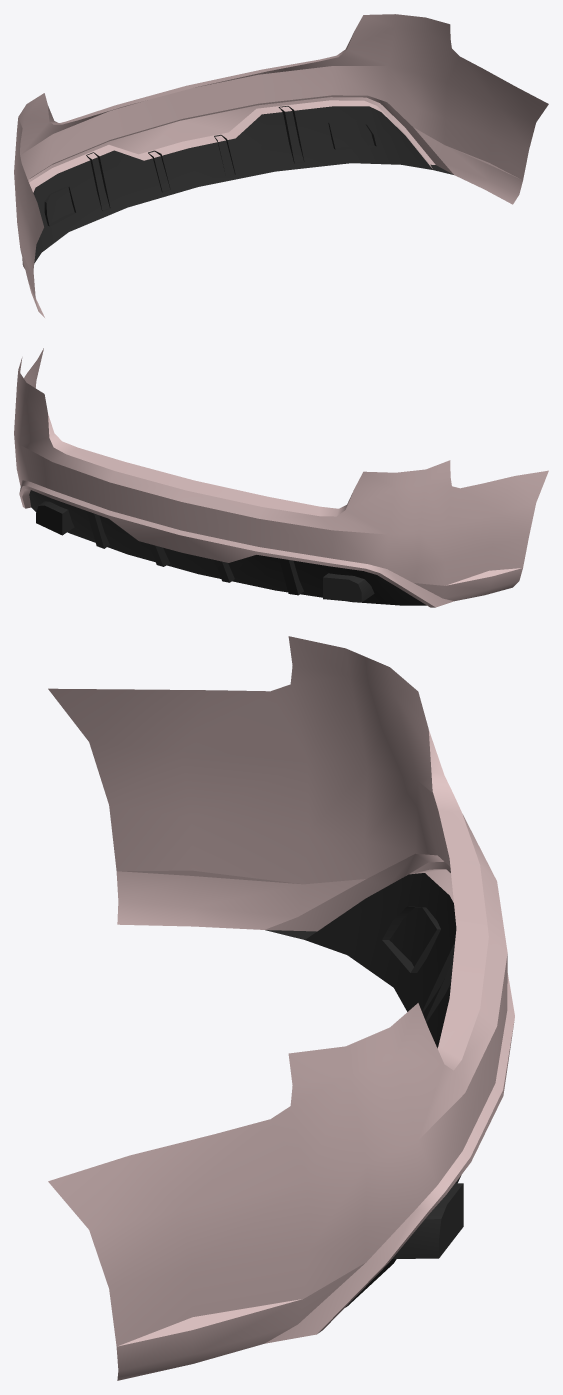
The model's file is Classic_14_Bumper_B_2.fbx.
The picture shows the model from 3 angles, top to bottom: view 1: azimuth 30°, elevation 25°; view 2: azimuth 150°, elevation 25°; view 3: azimuth 270°, elevation 25°; orthographic projection. The views are drawn at different scales.
Parts seen in each view (by area): view 1: Classic_14_Bumper_B_2; view 2: Classic_14_Bumper_B_2; view 3: Classic_14_Bumper_B_2.
Part boxes in pixels (left/top/right/bottom): Classic_14_Bumper_B_2: left=14, top=14, right=548, bottom=317; Classic_14_Bumper_B_2: left=14, top=348, right=548, bottom=607; Classic_14_Bumper_B_2: left=48, top=636, right=514, bottom=1380.
Bounding box in the file's own units: 206 × 60.02 × 82.5.
